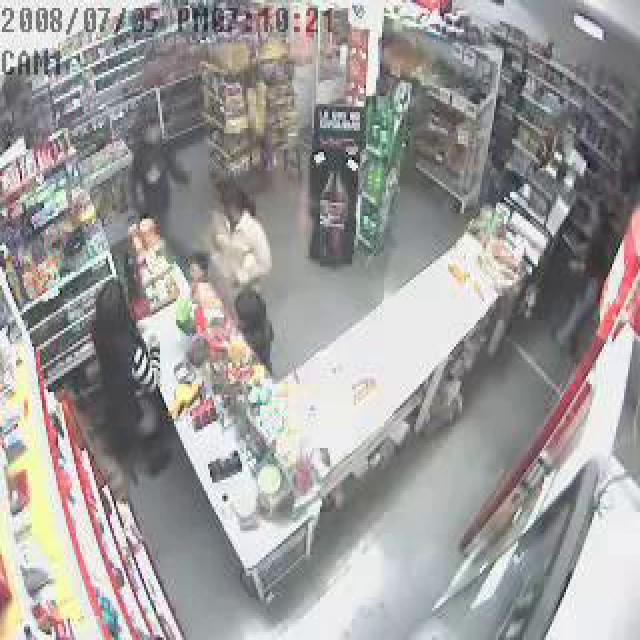robbery: (101, 39, 357, 501)
